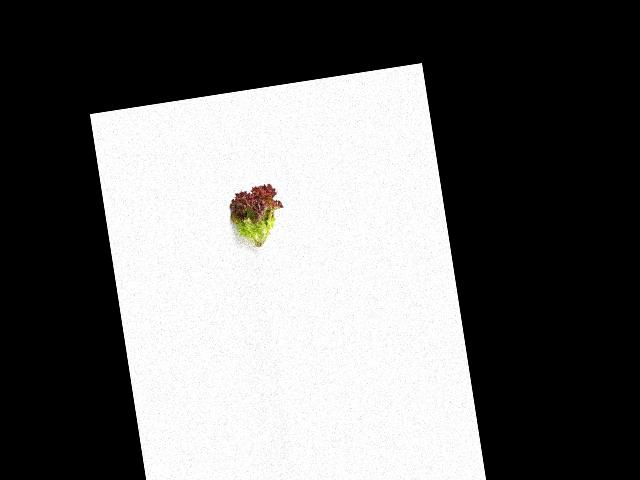lettuce: (224, 179, 288, 258)
